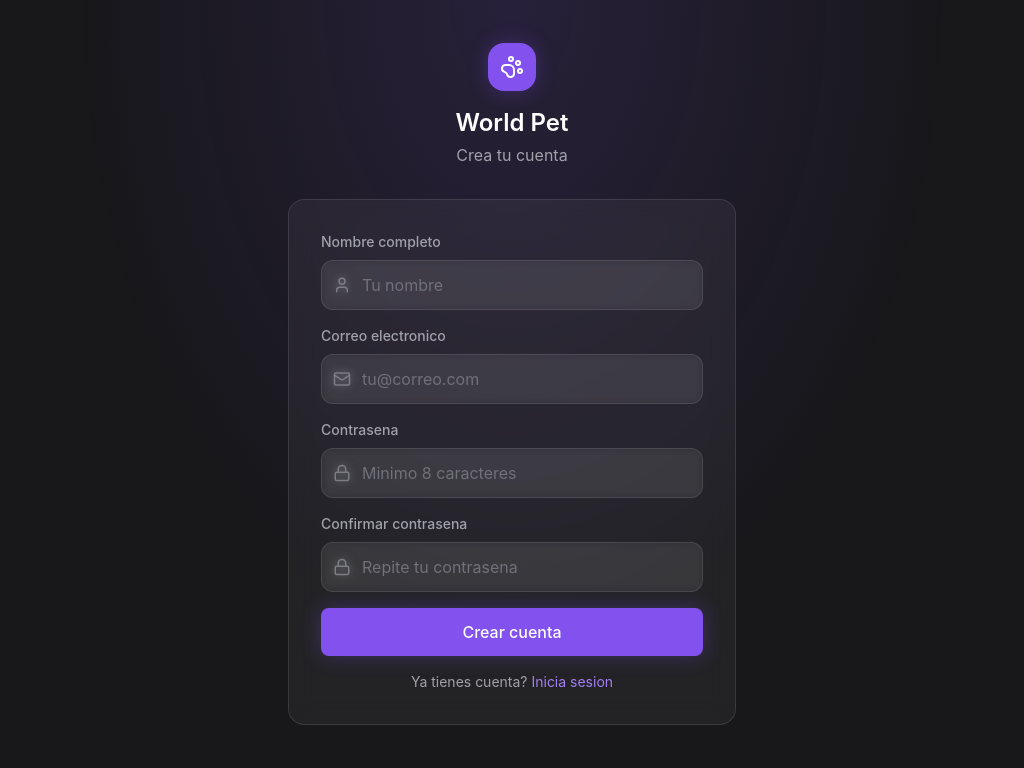
it: Register › shows validation error for empty name
Click the field with placeholder "Tu nombre" at (512, 285), box [321, 260, 703, 310]
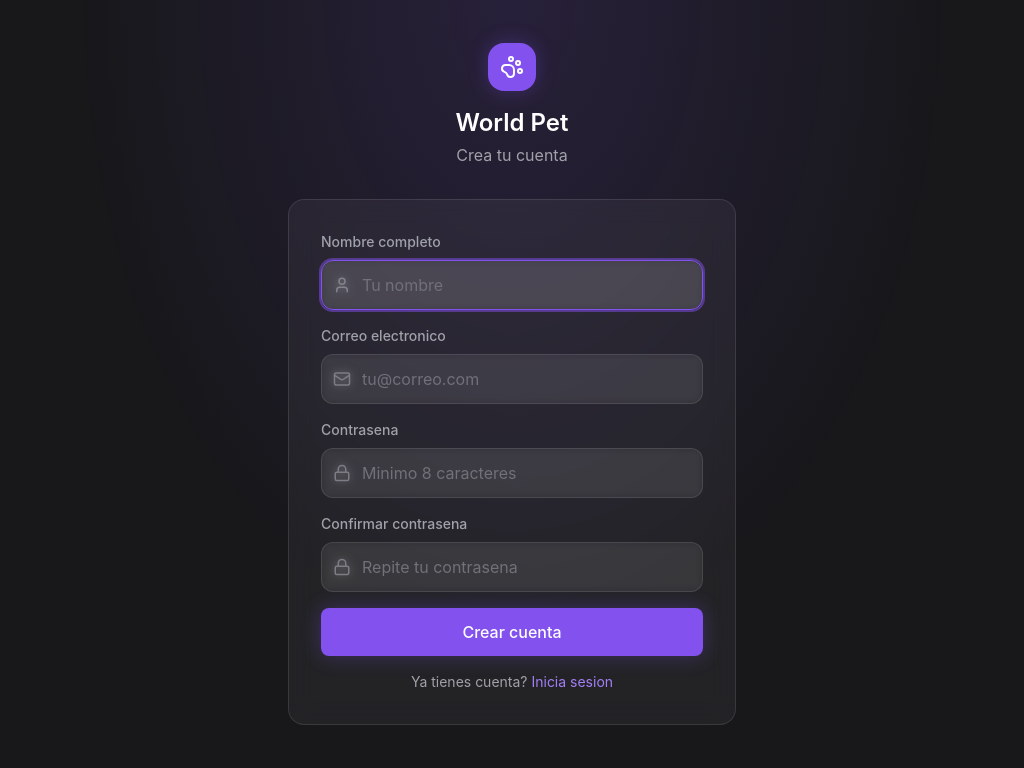
Press Tab
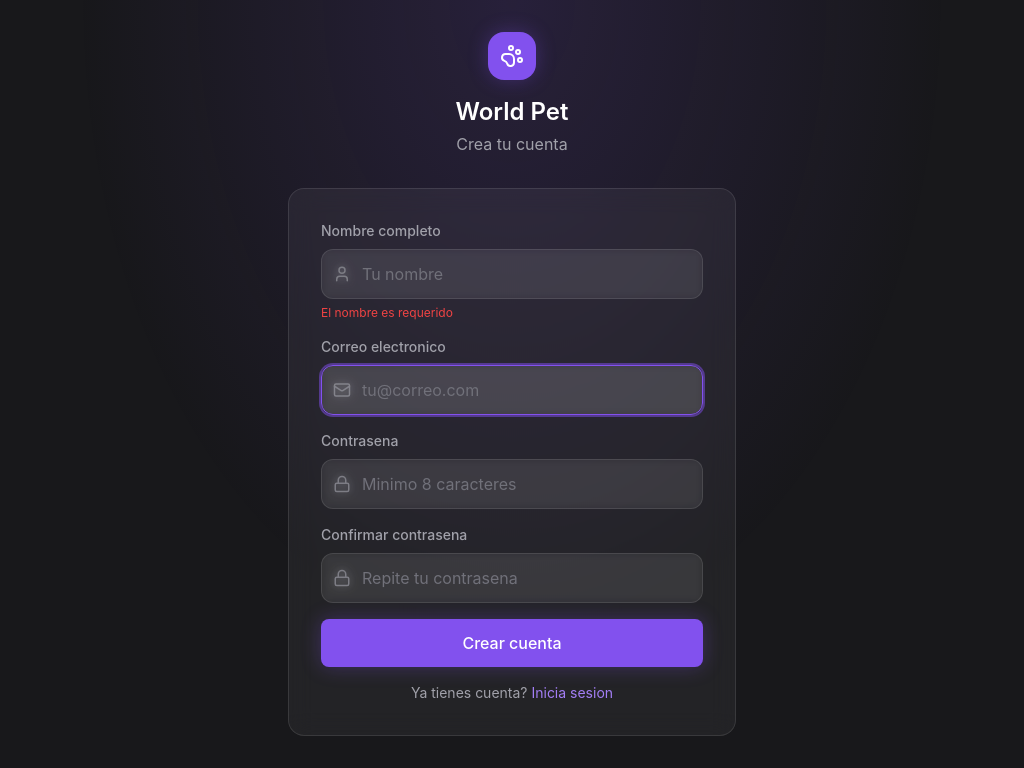
Expected: the text "El nombre es requerido" is shown, [321, 305, 453, 320]
